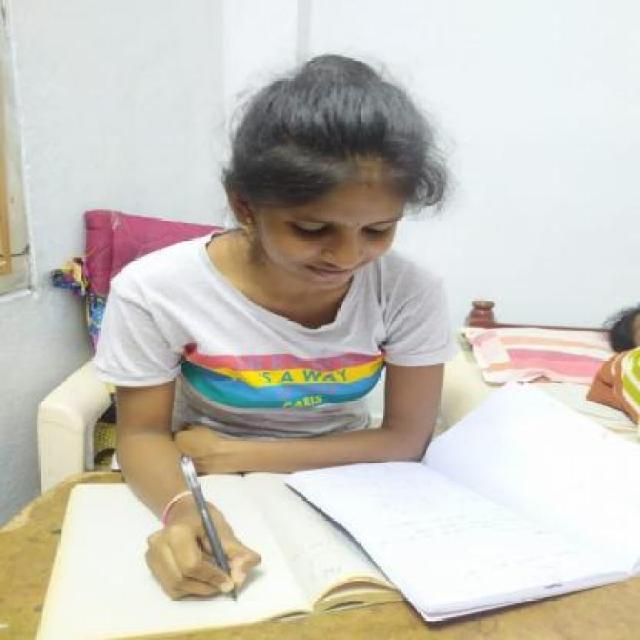good: (80, 36, 503, 638)
